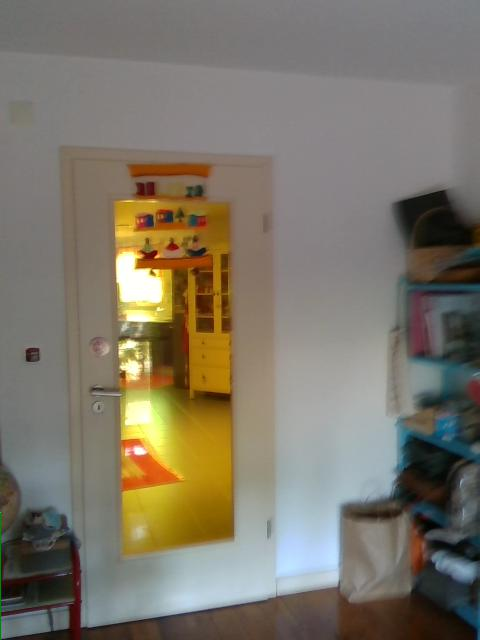door: (75, 158, 276, 625)
